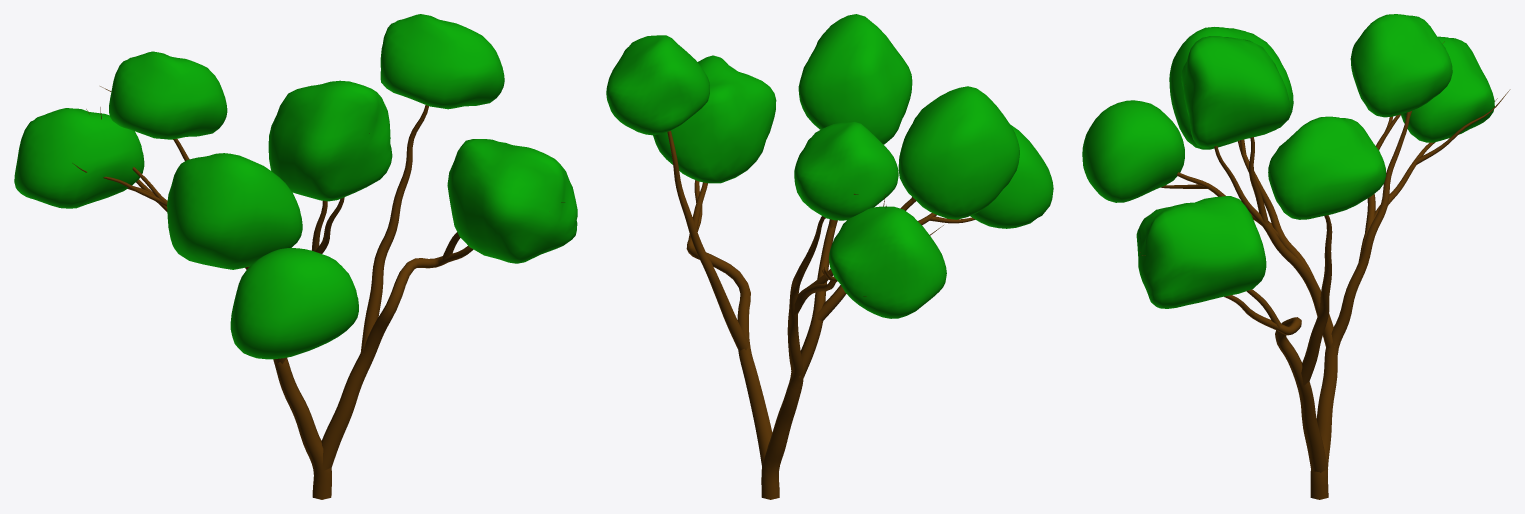
File: tree 1.fbx
3 views of the same model, side by side, from view 1: azimuth 30°, elevation 25°; view 2: azimuth 150°, elevation 25°; view 3: azimuth 270°, elevation 25° (orthographic). The views are drawn at different scales.
Parts seen in each view (by area): view 1: tree; view 2: tree; view 3: tree.
Boxes of the visible parts, box(x1,y1,x2,y2) form: tree: box(14, 14, 577, 499); tree: box(606, 14, 1053, 499); tree: box(1082, 14, 1510, 499).
Size of the model in its own units: 679 by 729 by 642.
